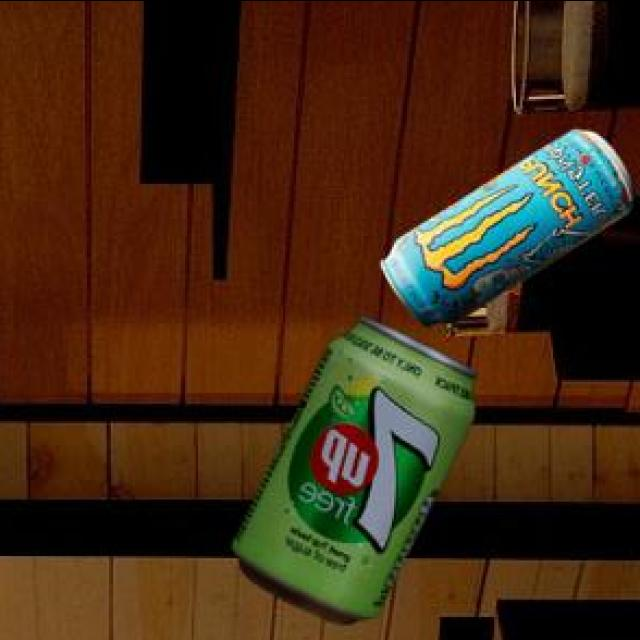logam: (230, 312, 473, 619), (378, 125, 632, 323)
